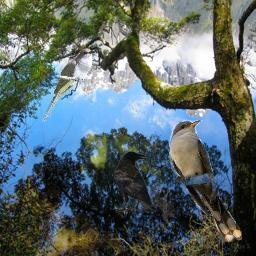Crow: (113, 151, 158, 215)
Cuckoo: (169, 120, 242, 242), (41, 48, 95, 122)
